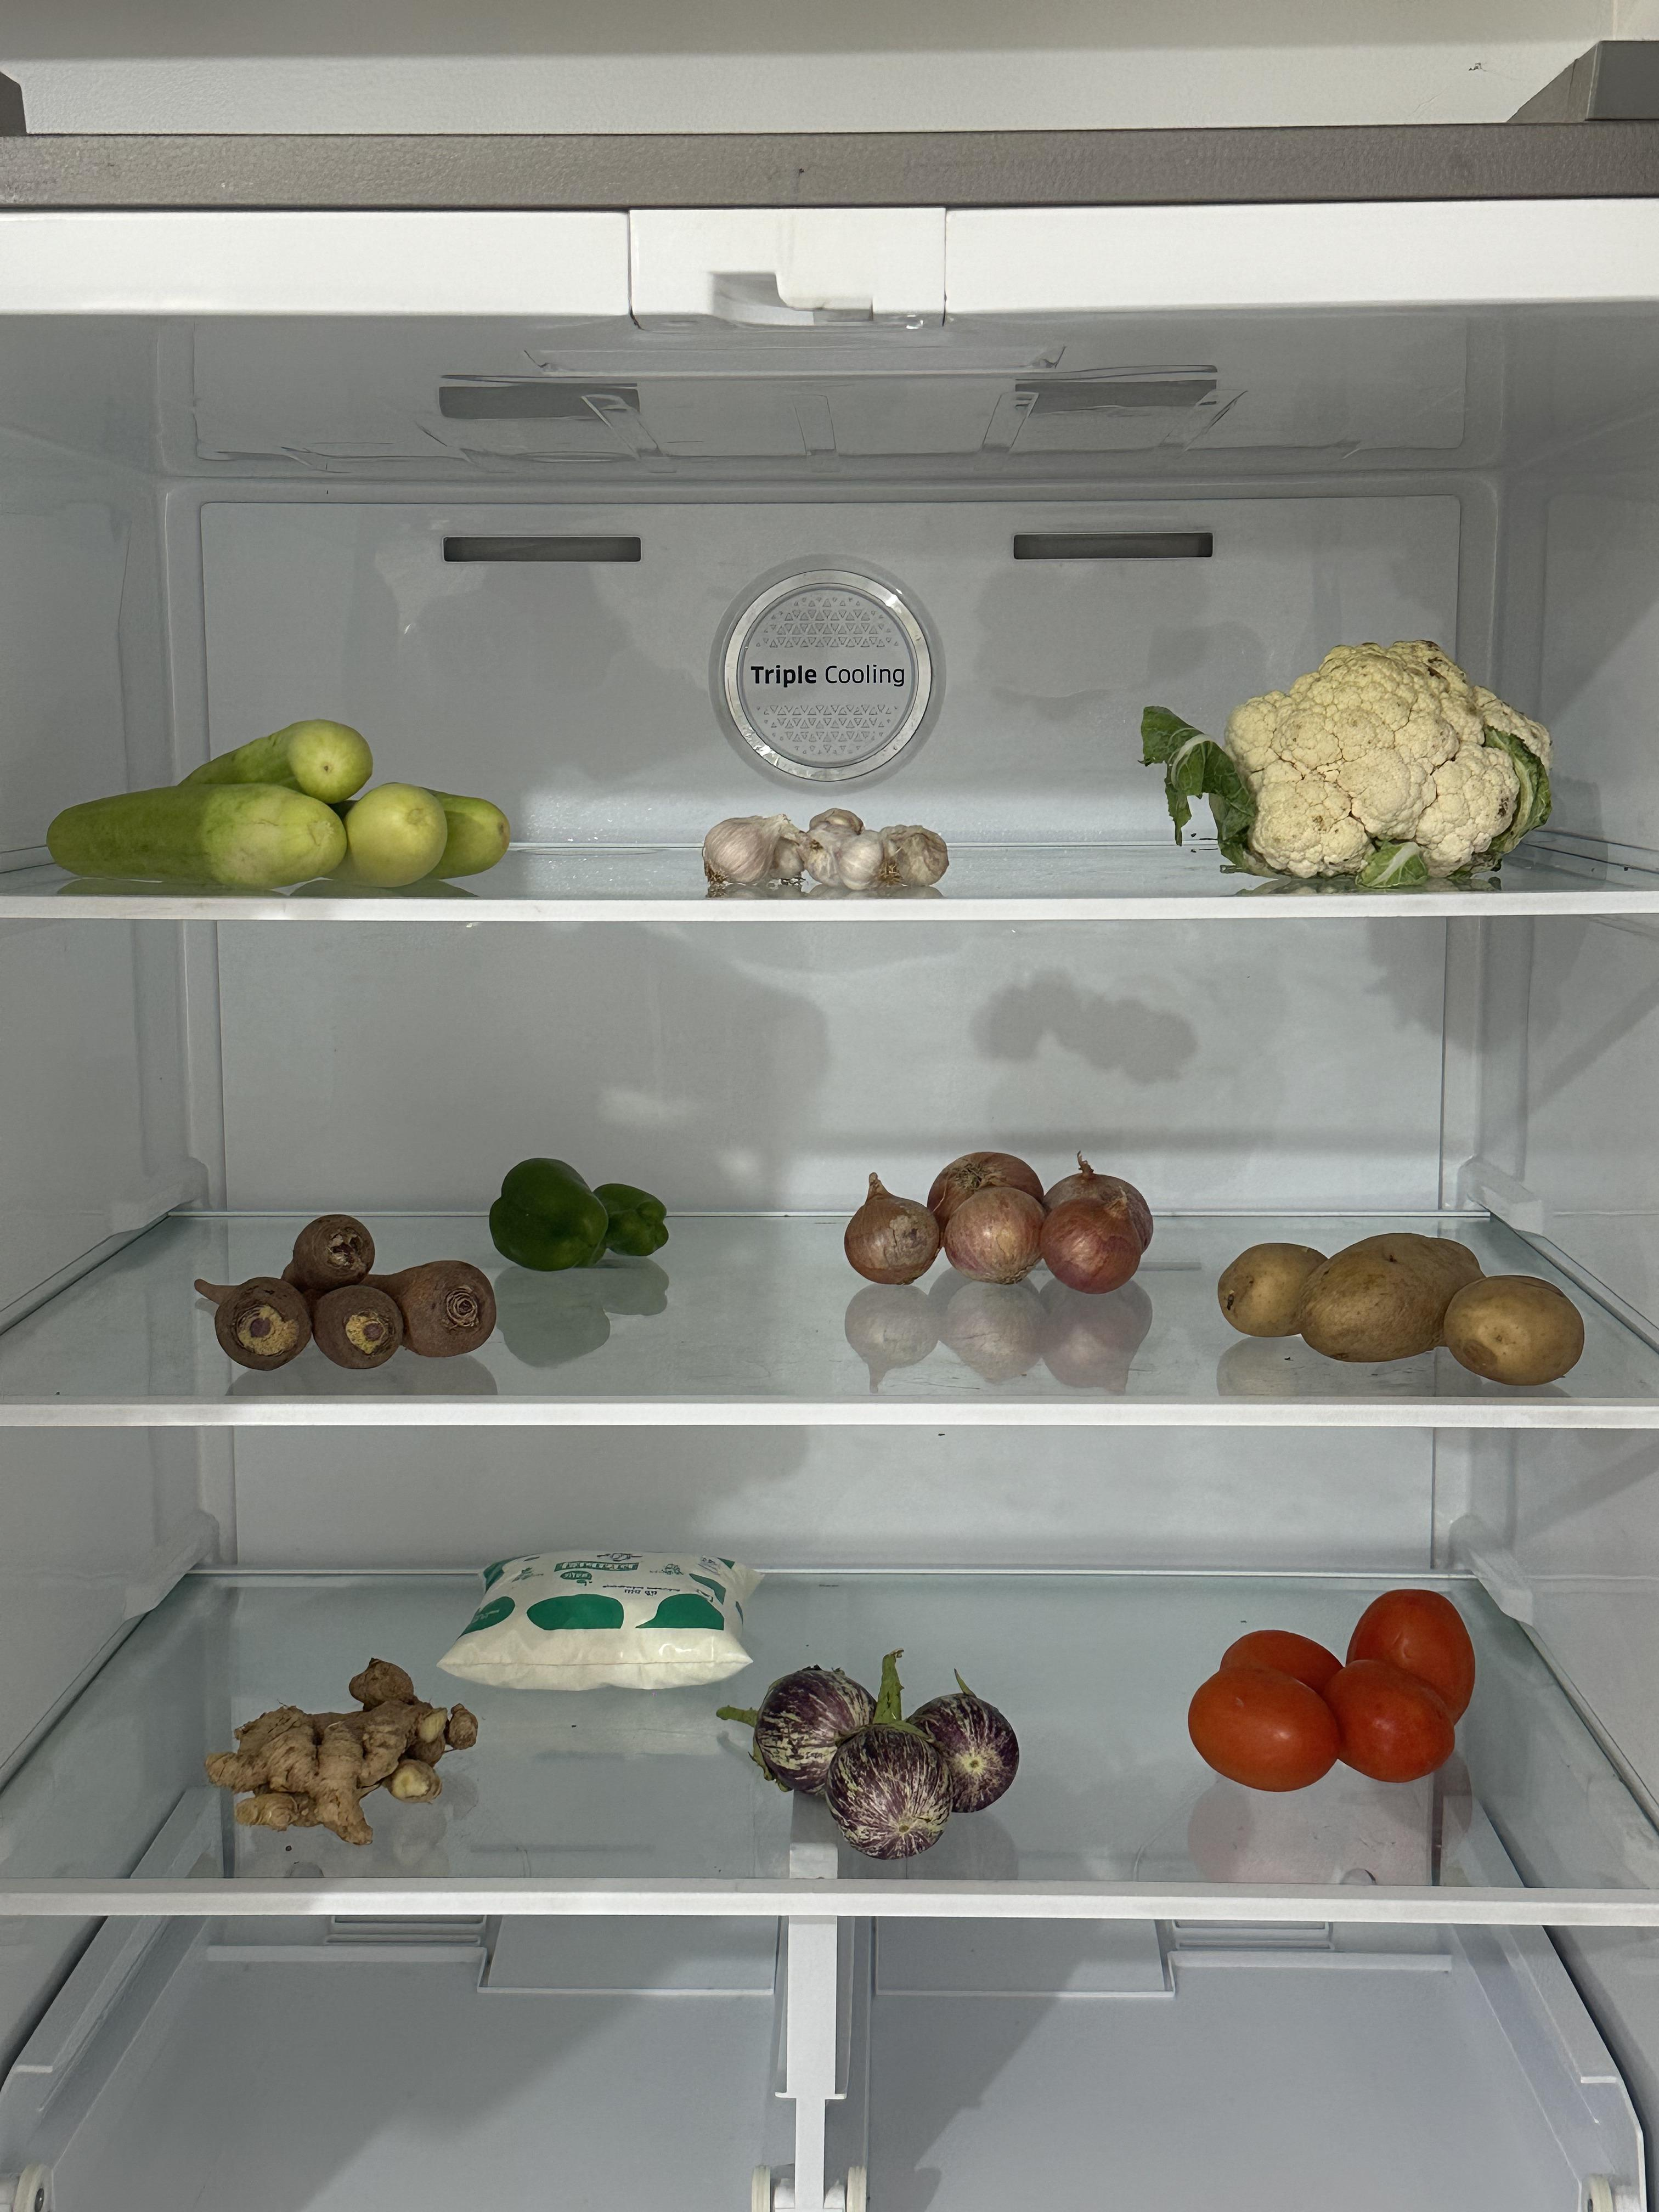bringal: (746, 1660, 1025, 1858)
capsicum: (483, 1146, 673, 1271)
carrots: (206, 1204, 502, 1378)
cauliflower: (1204, 629, 1553, 883)
cucumber: (40, 711, 507, 894)
garlic: (692, 801, 962, 894)
ginger: (202, 1658, 479, 1846)
milk: (451, 1543, 756, 1688)
onion: (836, 1141, 1152, 1292)
potato: (1216, 1228, 1582, 1388)
tomato: (1188, 1585, 1476, 1787)
